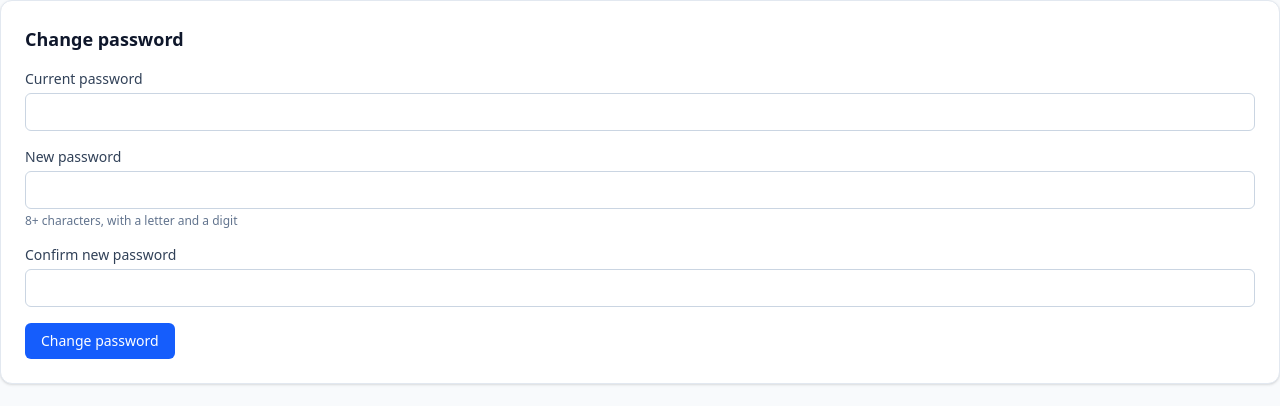
Scenario: ChangePasswordForm › rejects reusing the current password
In the password field labelled "Current password": (640, 112) [25,93,1255,131], type "Passw0rd!"
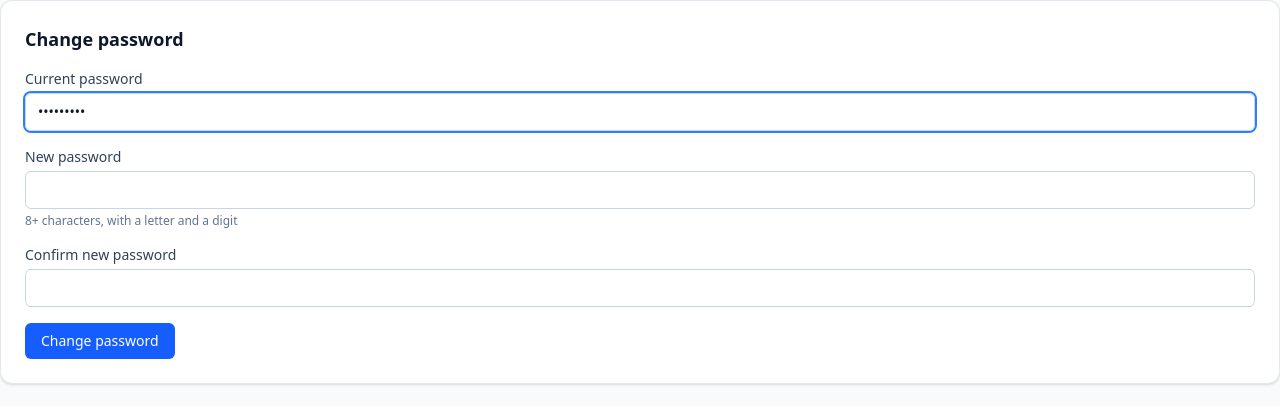
In the password field labelled "New password": (640, 190) [25,171,1255,209], type "Passw0rd!"
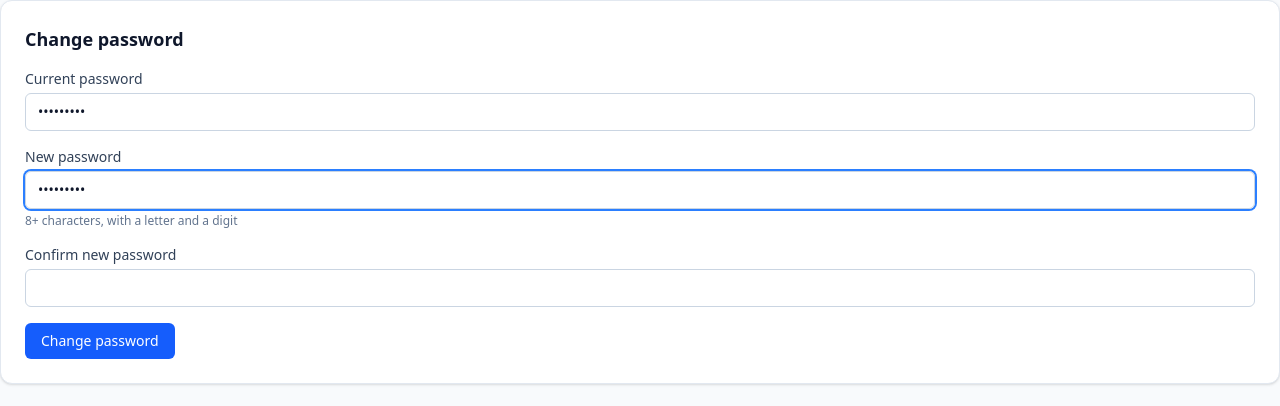
In the password field labelled "Confirm new password": (640, 288) [25,269,1255,307], type "Passw0rd!"
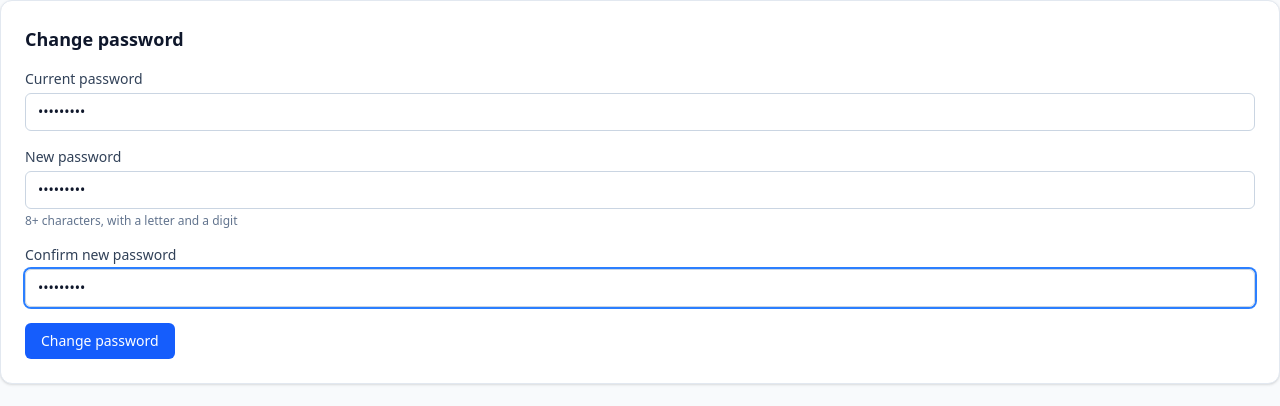
Click the button "Change password": click(100, 341) [25,323,175,359]
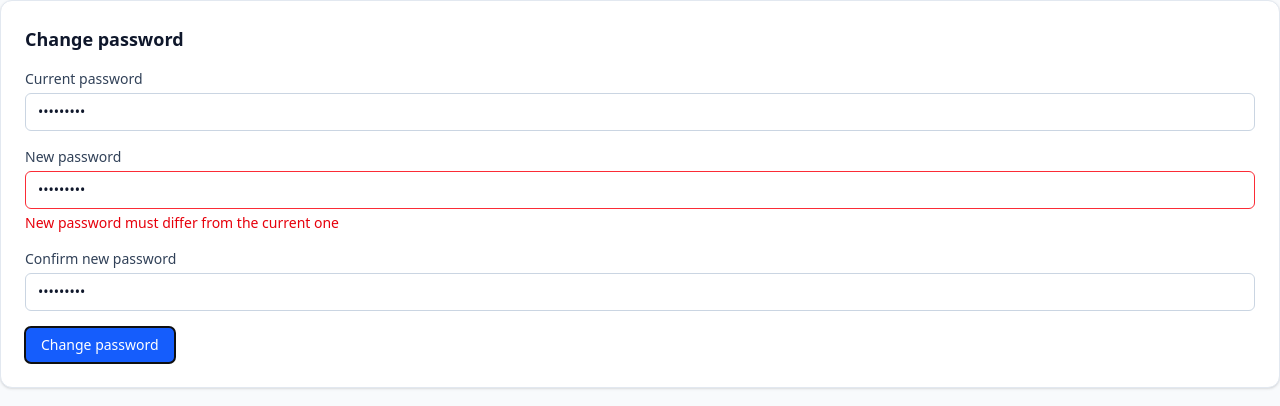
Expected: the text "New password must differ from the current one" is shown, [25,213,339,232]
